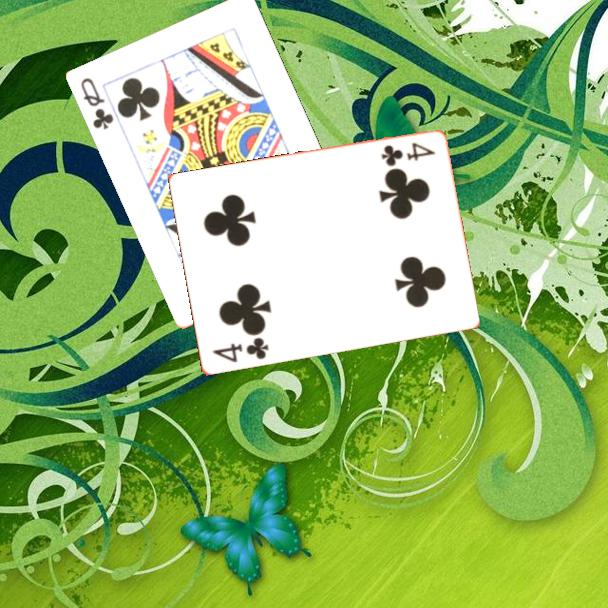c04: (209, 334, 271, 366), (378, 139, 438, 168)
c12: (77, 74, 117, 133)
